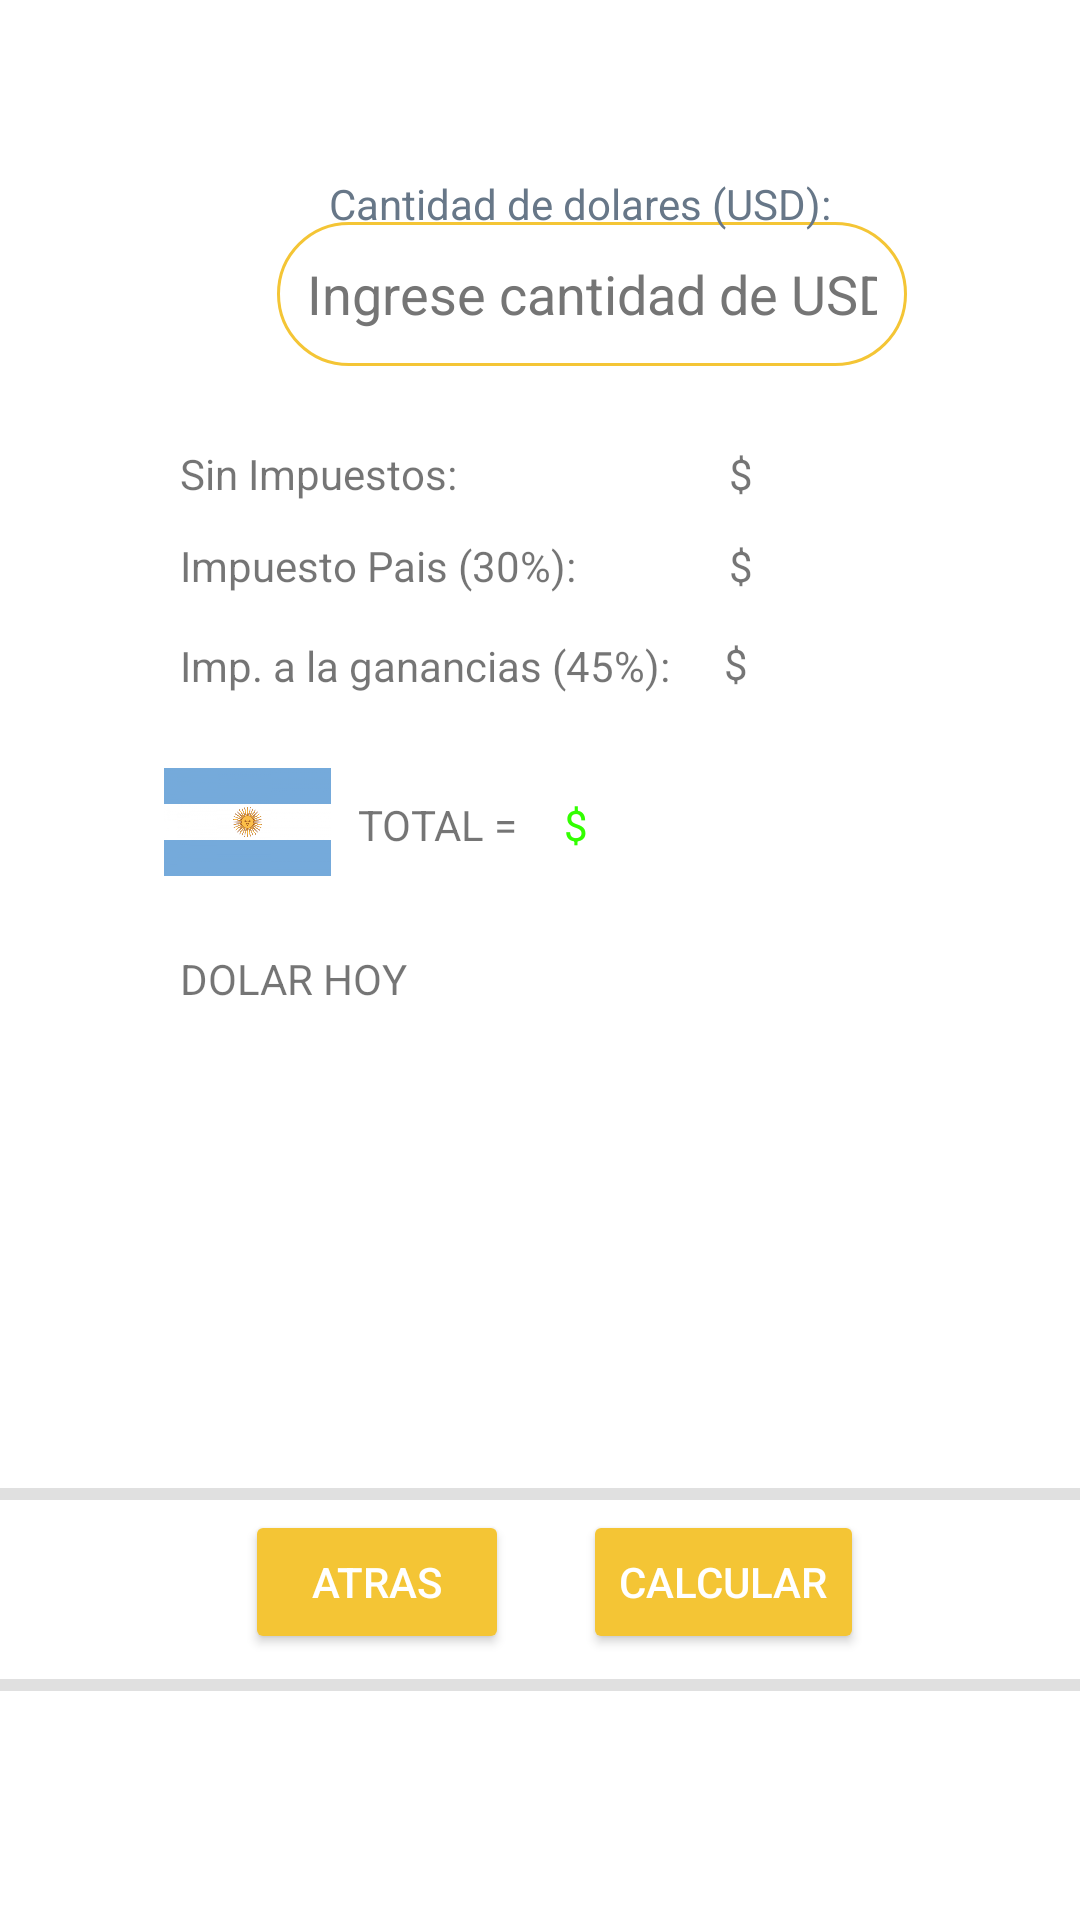

Named icons in this screenshot (1080 x 1920) and their bounding boxes, detection(x1, y1, x2, y2):
arg: detection(164, 768, 331, 876)
